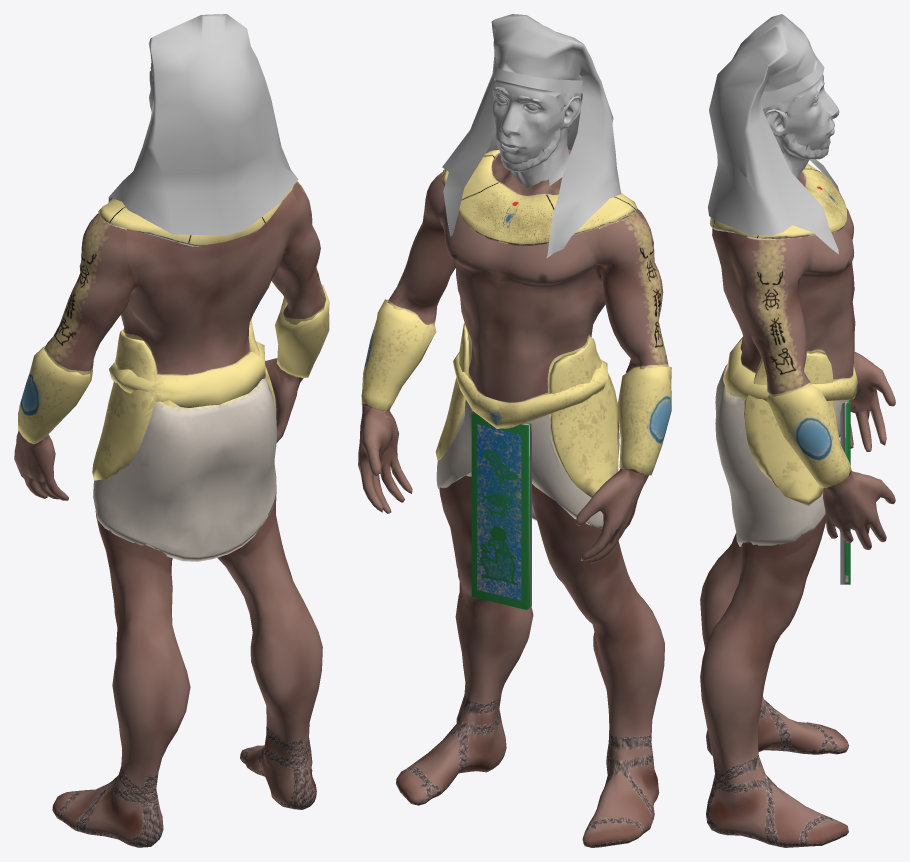
The model's file is BODY_low_UVd.fbx.
3 renders of one model, left to right at view 1: azimuth 30°, elevation 25°; view 2: azimuth 150°, elevation 25°; view 3: azimuth 270°, elevation 25°, orthographic.
Visible parts, largest first — view 1: Body, Head, Skirt, Gauntlets, Hip_Guards, Belt, Collar; view 2: Body, Head, pCube1, Gauntlets, Hip_Guards, Collar, Skirt, Belt; view 3: Body, Head, Skirt, Hip_Guards, Gauntlets, Collar, Belt, pCube1.
Part boxes in pixels (left/top/right/bottom): Body: left=14, top=181, right=326, bottom=847; Head: left=108, top=14, right=298, bottom=235; Skirt: left=93, top=378, right=276, bottom=561; Gauntlets: left=18, top=285, right=329, bottom=444; Hip_Guards: left=92, top=319, right=276, bottom=480; Belt: left=109, top=341, right=265, bottom=407; Collar: left=98, top=186, right=293, bottom=246; Body: left=358, top=154, right=668, bottom=847; Head: left=442, top=14, right=621, bottom=257; pCube1: left=471, top=411, right=531, bottom=609; Gauntlets: left=361, top=299, right=671, bottom=475; Hip_Guards: left=435, top=323, right=618, bottom=497; Collar: left=441, top=149, right=637, bottom=245; Skirt: left=436, top=399, right=619, bottom=528; Belt: left=453, top=352, right=607, bottom=428; Body: left=700, top=172, right=895, bottom=847; Head: left=708, top=14, right=839, bottom=254; Skirt: left=715, top=364, right=846, bottom=546; Hip_Guards: left=743, top=351, right=837, bottom=505; Gauntlets: left=767, top=383, right=851, bottom=487; Collar: left=709, top=163, right=846, bottom=238; Belt: left=723, top=336, right=857, bottom=402; pCube1: left=840, top=399, right=850, bottom=584.
Size of the model in its own units: 7.06 by 17.75 by 4.08.
